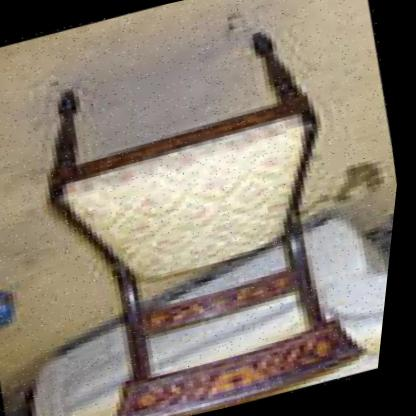Chair: (0, 2, 411, 416)
